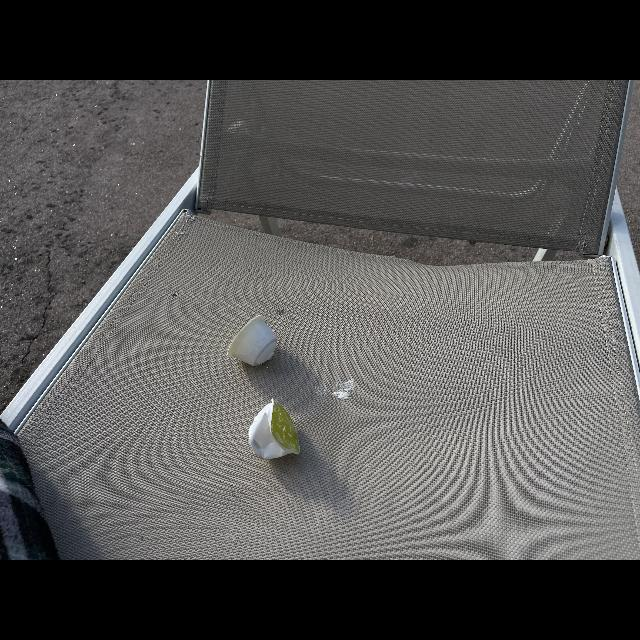damaged_capsule: (246, 394, 304, 470)
intact_capsule: (222, 312, 284, 368)
